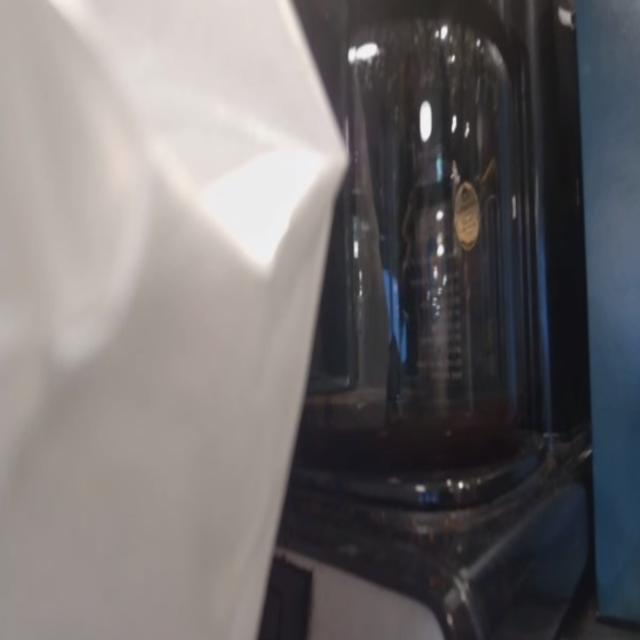nocoffee: (162, 4, 536, 519)
